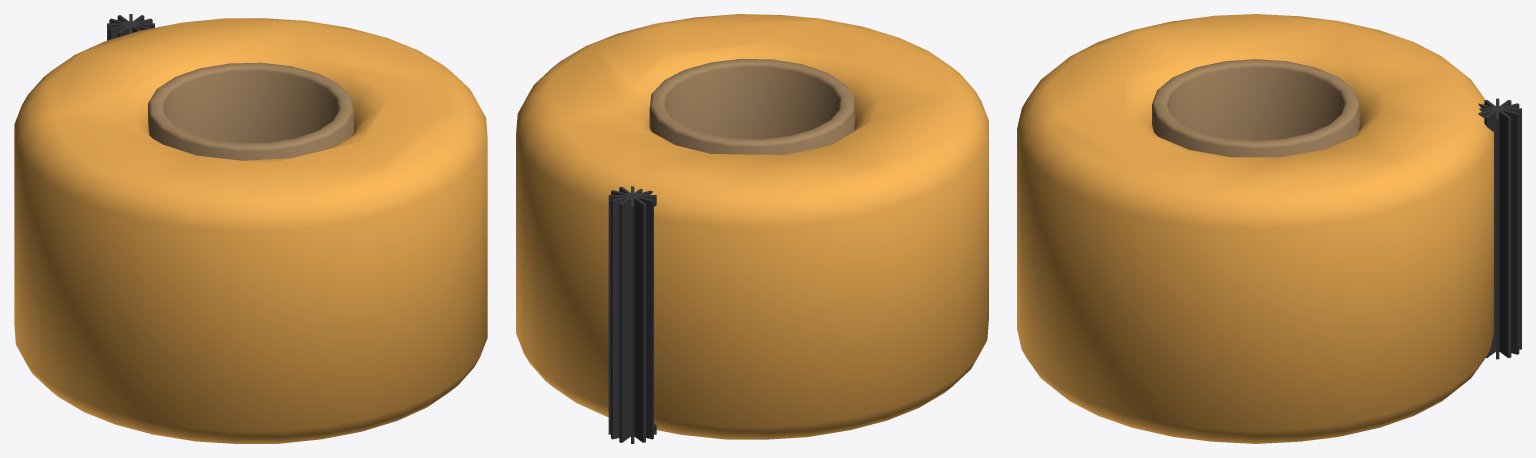
Rendered from SER-EPC-005_lod1.glb.
The picture shows the model from 3 angles, left to right: view 1: azimuth 30°, elevation 25°; view 2: azimuth 150°, elevation 25°; view 3: azimuth 270°, elevation 25°; orthographic projection.
Visible parts, largest first — view 1: SER-EPC-005_rolo, SER-EPC-005_tubete; view 2: SER-EPC-005_rolo, SER-EPC-005_tubete, SER-EPC-005_listra5, SER-EPC-005_listra9, SER-EPC-005_listra6, SER-EPC-005_listra8, SER-EPC-005_listra4, SER-EPC-005_listra7, SER-EPC-005_listra3, SER-EPC-005_listra2; view 3: SER-EPC-005_rolo, SER-EPC-005_tubete, SER-EPC-005_listra1, SER-EPC-005_listra2, SER-EPC-005_listra0, SER-EPC-005_listra3, SER-EPC-005_listra5.
Boxes of the visible parts, x1,y1,x2,y2 form: SER-EPC-005_rolo: (14, 18, 487, 443); SER-EPC-005_tubete: (148, 62, 353, 160); SER-EPC-005_rolo: (516, 14, 988, 439); SER-EPC-005_tubete: (649, 59, 855, 154); SER-EPC-005_listra5: (619, 187, 645, 442); SER-EPC-005_listra9: (621, 189, 642, 442); SER-EPC-005_listra6: (611, 191, 653, 439); SER-EPC-005_listra8: (612, 190, 652, 439); SER-EPC-005_listra4: (631, 186, 634, 443); SER-EPC-005_listra7: (608, 195, 656, 434); SER-EPC-005_listra3: (619, 189, 642, 442); SER-EPC-005_listra2: (611, 191, 651, 438); SER-EPC-005_rolo: (1017, 14, 1493, 443); SER-EPC-005_tubete: (1152, 59, 1360, 157); SER-EPC-005_listra1: (1484, 100, 1511, 357); SER-EPC-005_listra2: (1478, 103, 1519, 354); SER-EPC-005_listra0: (1496, 98, 1499, 359); SER-EPC-005_listra3: (1479, 108, 1521, 349); SER-EPC-005_listra5: (1484, 100, 1511, 357).
Bounding box in the file's own units: 0.119 × 0.07 × 0.1257.
Materials: 3 (1 with a texture image).
